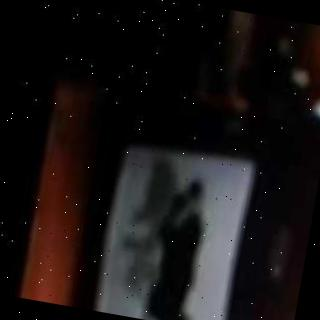smoke: (237, 301, 295, 320)
